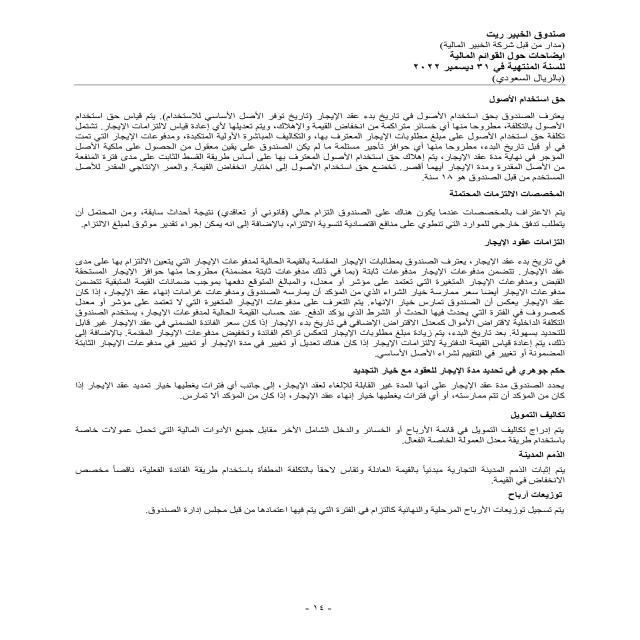notes: (422, 48, 566, 63)
text: (45, 94, 574, 551)
